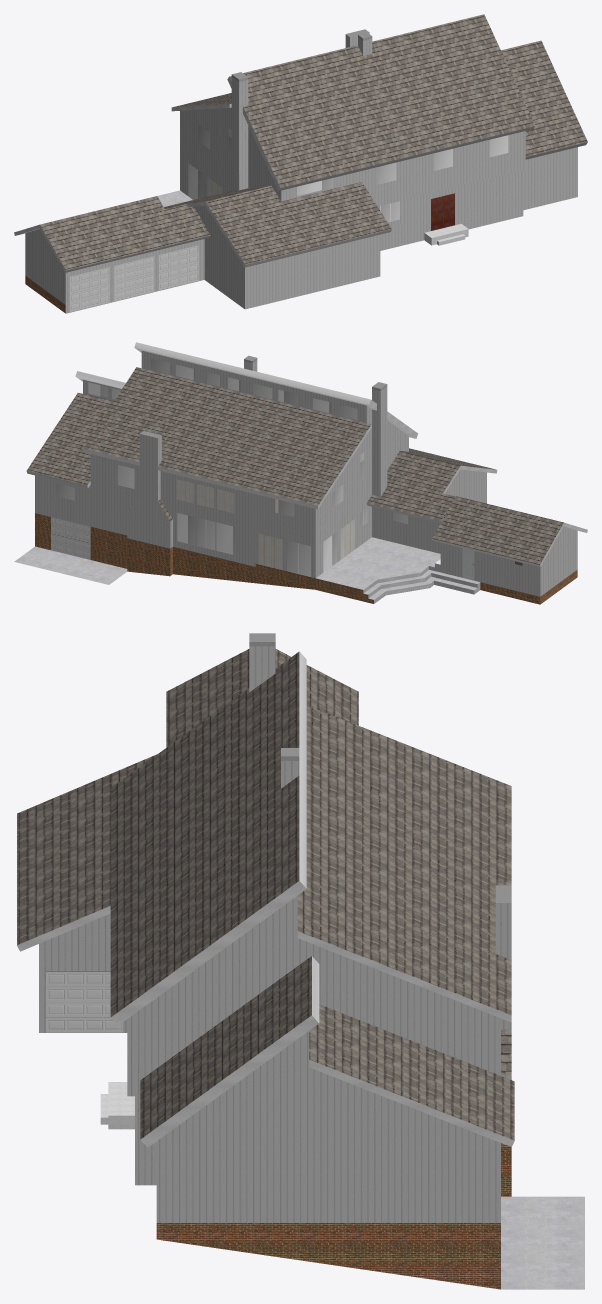
The model's file is harrington_house.glb.
The picture shows the model from 3 angles, top to bottom: view 1: azimuth 30°, elevation 25°; view 2: azimuth 150°, elevation 25°; view 3: azimuth 270°, elevation 25°; orthographic projection. The views are drawn at different scales.
Visible parts, largest first — view 1: Material2 (×7); view 2: Material2 (×9); view 3: Material2 (×7).
Boxes of the visible parts, x1,y1,x2,y2 form: Material2 (×7): (14,14,587,313); Material2 (×9): (14,342,587,604); Material2 (×7): (17,646,584,1289).
Bounding box in the file's own units: 1260 × 480 × 653.
Materials: 16 (12 with a texture image).
